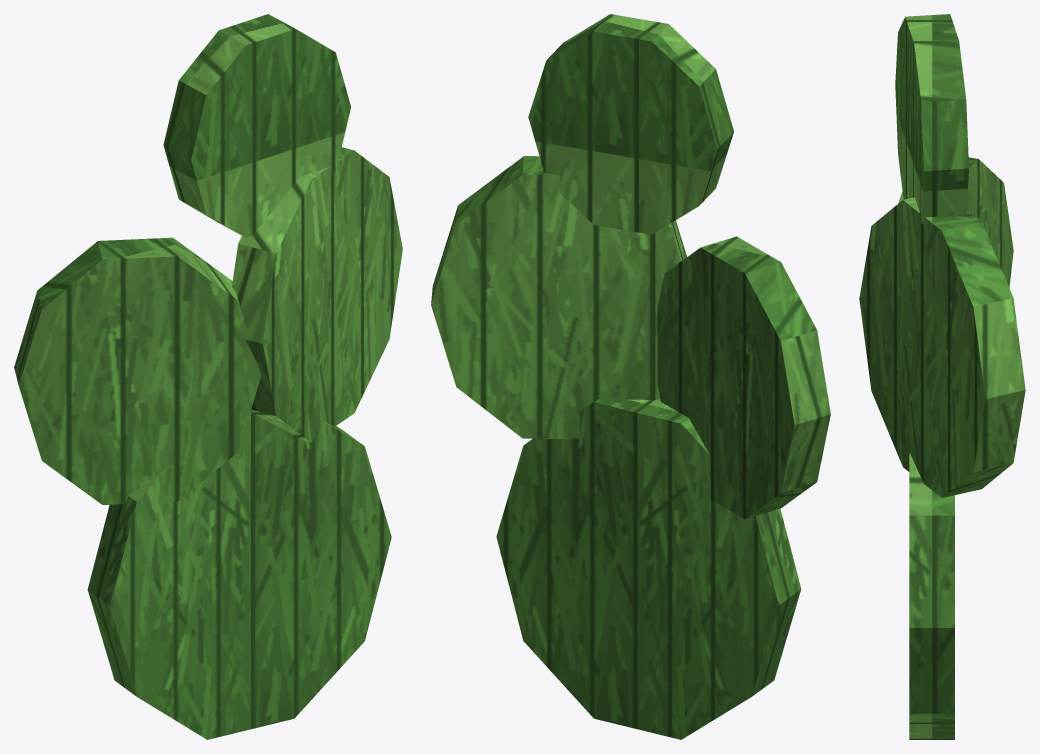
The model's file is nopal.glb.
3 views of the same model, side by side, from view 1: azimuth 30°, elevation 25°; view 2: azimuth 150°, elevation 25°; view 3: azimuth 270°, elevation 25° (orthographic).
Visible parts, largest first — view 1: Nopal_cuerpo; view 2: Nopal_cuerpo; view 3: Nopal_cuerpo.
Part boxes in pixels (x1,y1,x2,y2): Nopal_cuerpo: [14, 14, 402, 739]; Nopal_cuerpo: [431, 14, 830, 739]; Nopal_cuerpo: [859, 14, 1025, 739].
Size of the model in its own units: 4.44 by 7.46 by 1.61.
Materials: 2 (2 with a texture image).
